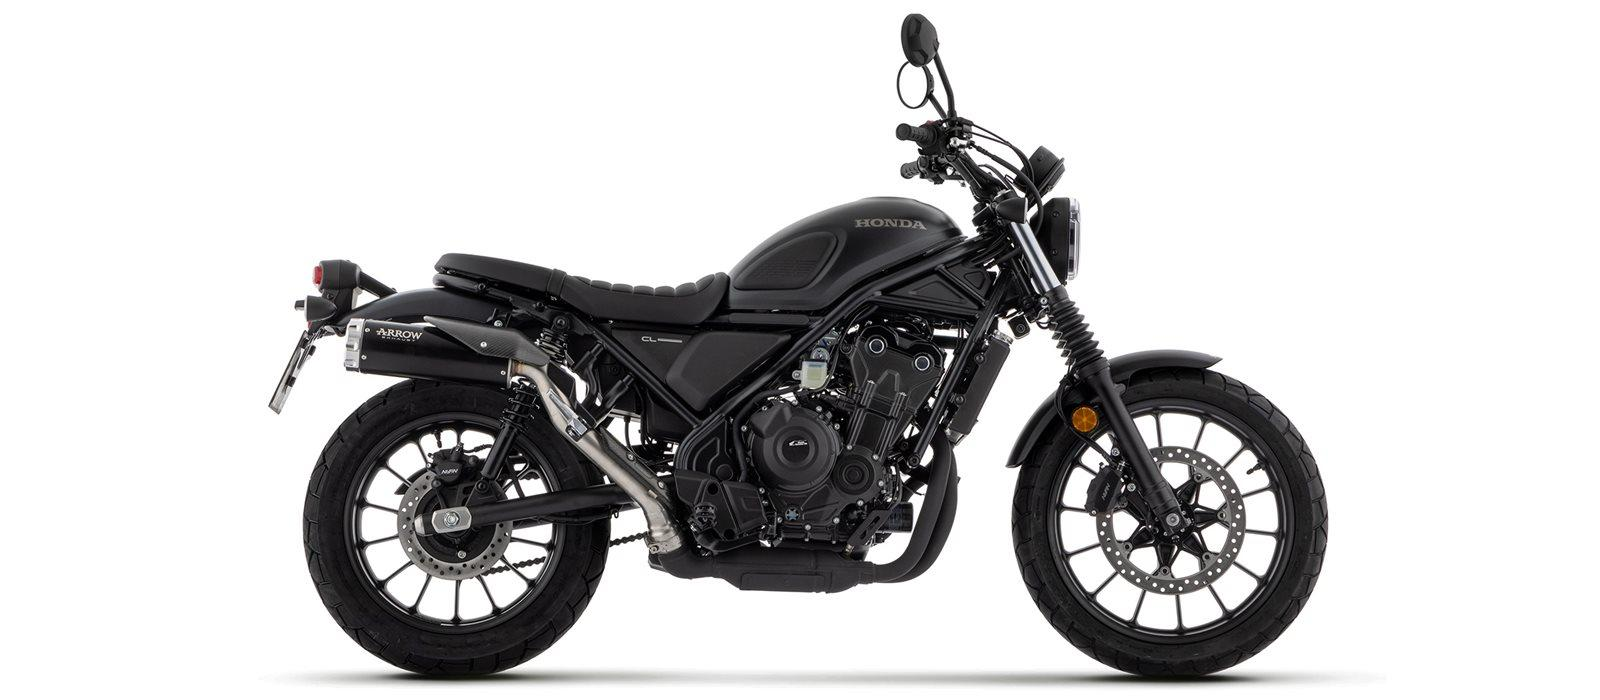engine-chasis: (474, 377, 541, 495), (534, 312, 572, 366)
exhaust: (343, 308, 958, 594)
frontside: (866, 188, 1224, 537), (673, 230, 1000, 560)
handlebar: (895, 12, 1067, 237)
motorbike: (269, 12, 1329, 676)
rearside: (267, 260, 826, 521), (431, 483, 642, 534)
seat: (433, 253, 729, 323)
tank: (728, 196, 968, 310)
wheel: (1010, 367, 1329, 679), (302, 379, 612, 678), (489, 398, 605, 500), (1054, 363, 1119, 469), (609, 531, 650, 549)
